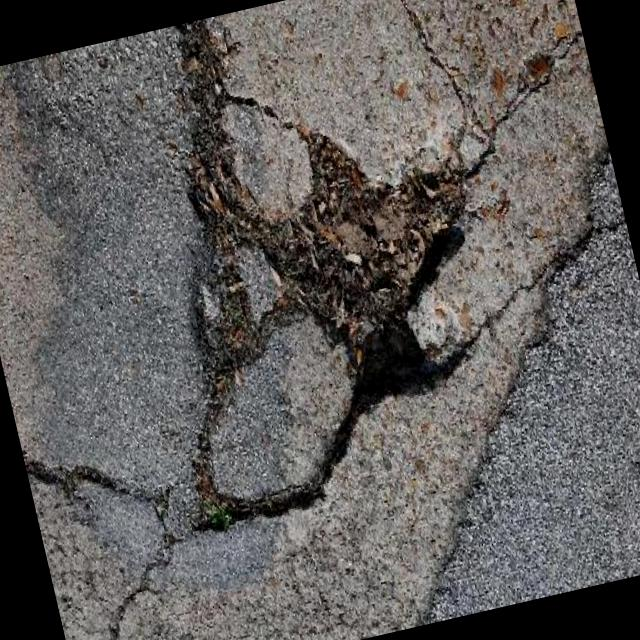pothole: (95, 33, 535, 546)
